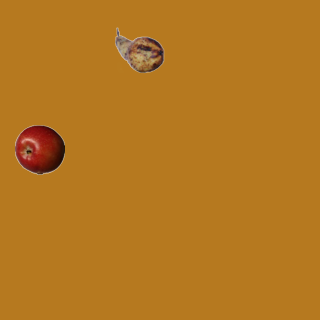Apple Braeburn: (14, 124, 64, 174)
Pear Abate: (114, 25, 164, 75)
